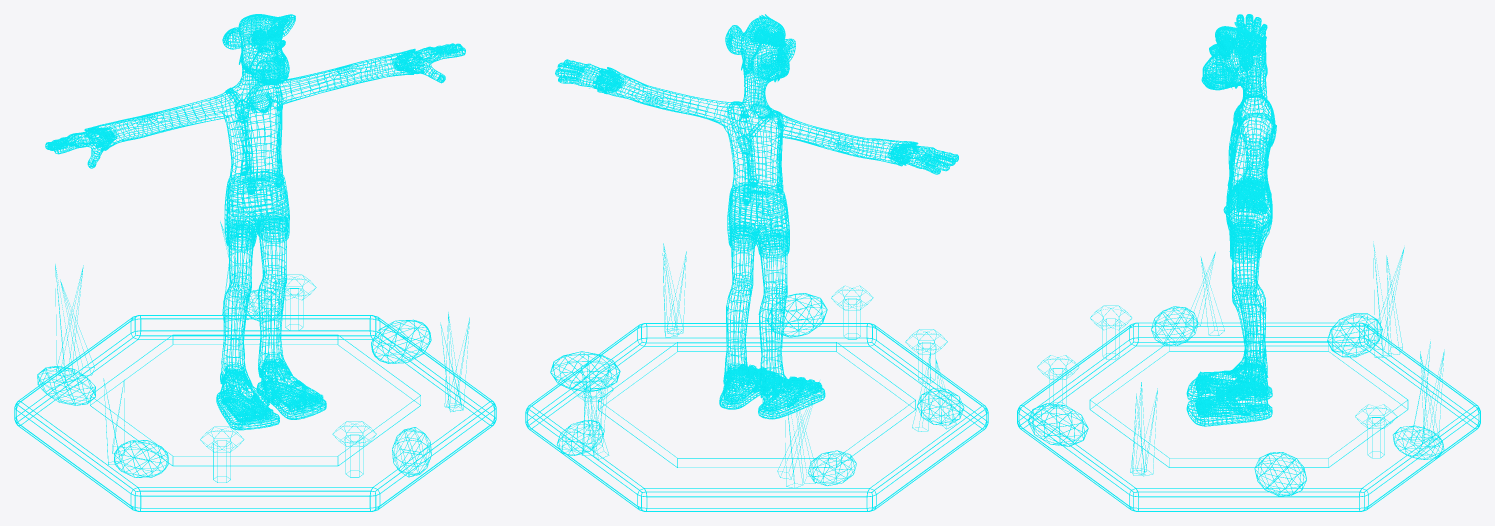
The model's file is holographic_character.glb.
The picture shows the model from 3 angles, left to right: view 1: azimuth 30°, elevation 25°; view 2: azimuth 150°, elevation 25°; view 3: azimuth 270°, elevation 25°; orthographic projection. The views are drawn at different scales.
Visible parts, largest first — view 1: 6889, Platform, Platform_Inner, Rock_0, Rock_1, Rock_2, Rock_3; view 2: 6889, Platform, Platform_Inner, Rock_0, Rock_3, Rock_2, Rock_1, Rock_4; view 3: 6889, Platform, Platform_Inner, Rock_1, Rock_3, Rock_0, Rock_2, Rock_4.
Part boxes in pixels (left/top/right/bottom): 6889: left=45, top=14, right=465, bottom=430; Platform: left=14, top=315, right=496, bottom=511; Platform_Inner: left=90, top=334, right=420, bottom=466; Rock_0: left=371, top=319, right=431, bottom=363; Rock_1: left=37, top=365, right=95, bottom=405; Rock_2: left=114, top=440, right=168, bottom=477; Rock_3: left=392, top=427, right=431, bottom=477; 6889: left=555, top=14, right=958, bottom=419; Platform: left=525, top=323, right=988, bottom=511; Platform_Inner: left=598, top=342, right=915, bottom=467; Rock_0: left=550, top=351, right=620, bottom=392; Rock_3: left=767, top=293, right=827, bottom=337; Rock_2: left=917, top=388, right=964, bottom=425; Rock_1: left=808, top=450, right=856, bottom=485; Rock_4: left=556, top=420, right=604, bottom=455; 6889: left=1186, top=14, right=1276, bottom=426; Platform: left=1017, top=322, right=1480, bottom=511; Platform_Inner: left=1089, top=341, right=1408, bottom=467; Rock_1: left=1327, top=313, right=1382, bottom=357; Rock_3: left=1027, top=403, right=1088, bottom=446; Rock_0: left=1254, top=452, right=1306, bottom=496; Rock_2: left=1151, top=306, right=1198, bottom=346; Rock_4: left=1392, top=425, right=1444, bottom=459.
Size of the model in its own units: 2.17 by 2.1 by 2.19.
